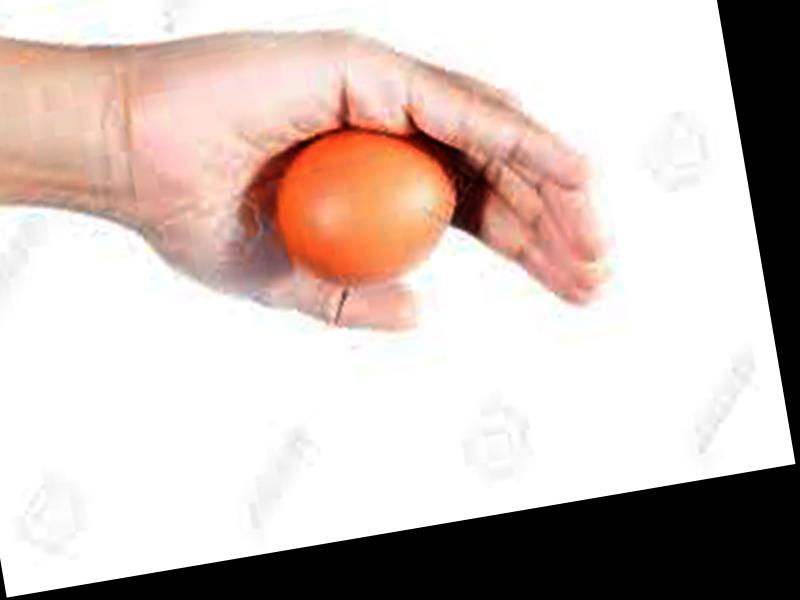Eggs: (266, 117, 466, 296)
